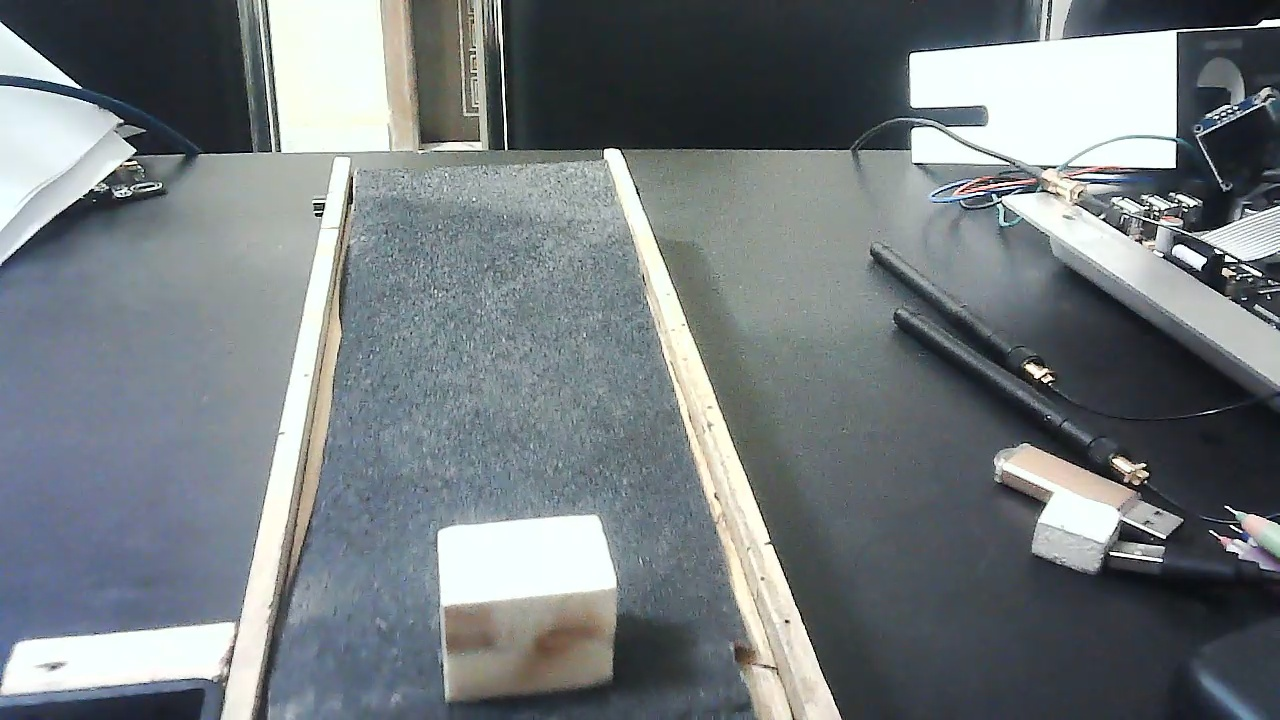Medium: (433, 514, 620, 701)
